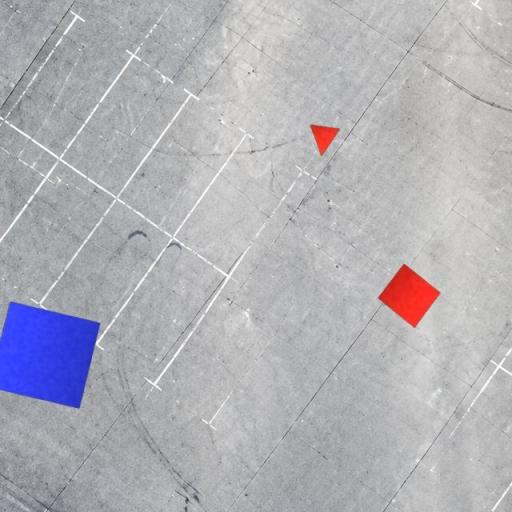BLUE_SQUARE: (0, 301, 101, 409)
RED_SQUARE: (376, 263, 442, 329)
